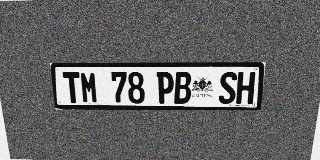7: (110, 72, 128, 103)
8: (127, 72, 145, 103)
B: (174, 72, 191, 104)
H: (236, 72, 256, 104)
M: (80, 72, 98, 103)
P: (157, 72, 174, 104)
S: (218, 72, 237, 104)
T: (62, 72, 82, 103)
